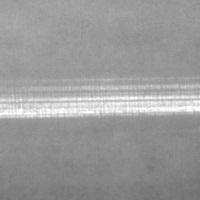scratches: (1, 85, 199, 120)
